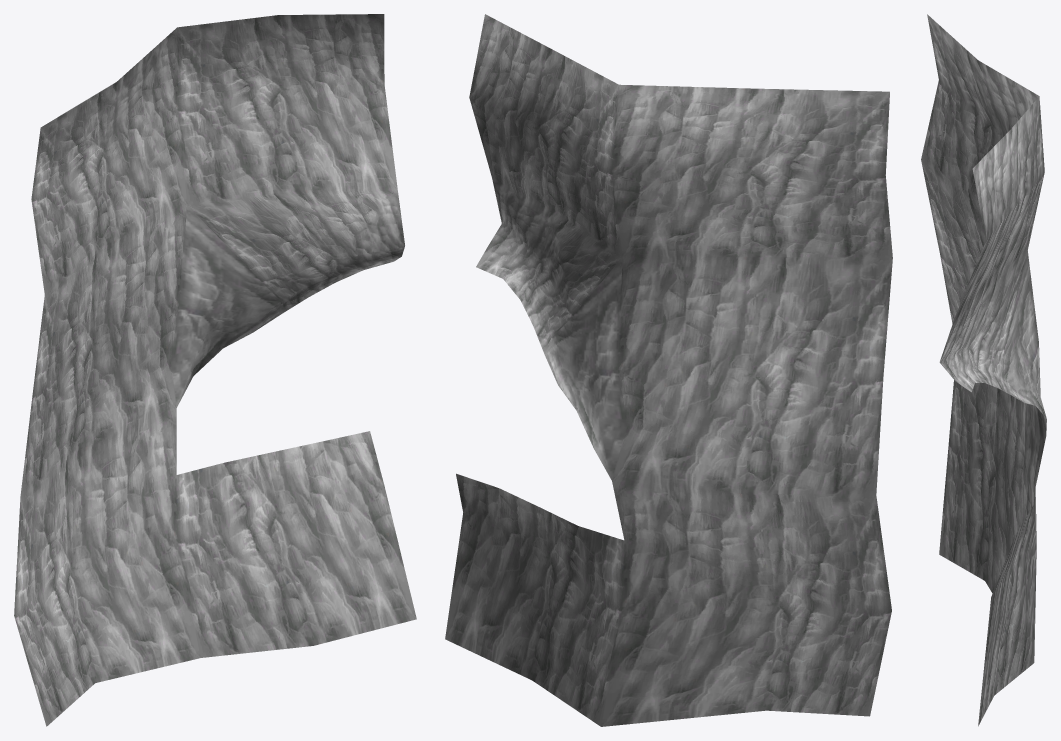
File: SWORDLIGHT20_PS-AREA03_195.fbx
3 views of the same model, side by side, from view 1: azimuth 30°, elevation 25°; view 2: azimuth 150°, elevation 25°; view 3: azimuth 270°, elevation 25° (orthographic). The views are drawn at different scales.
Parts seen in each view (by area): view 1: SWORDLIGHT20_PS-AREA03_195; view 2: SWORDLIGHT20_PS-AREA03_195; view 3: SWORDLIGHT20_PS-AREA03_195.
Boxes of the visible parts, bbox=[...] form: SWORDLIGHT20_PS-AREA03_195: bbox=[14, 14, 416, 726]; SWORDLIGHT20_PS-AREA03_195: bbox=[445, 14, 892, 726]; SWORDLIGHT20_PS-AREA03_195: bbox=[921, 14, 1046, 726].
Bounding box in the file's own units: 184583 × 267951 × 54504.
Materials: 2 (2 with a texture image).
